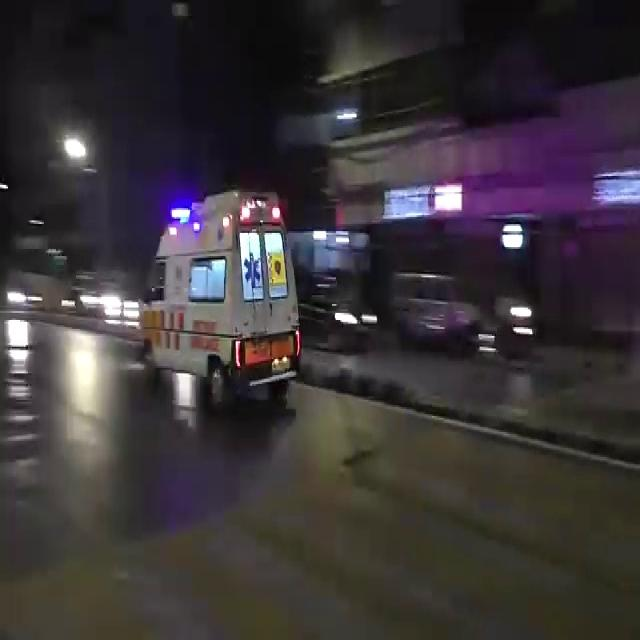ambulance: (144, 202, 300, 393)
